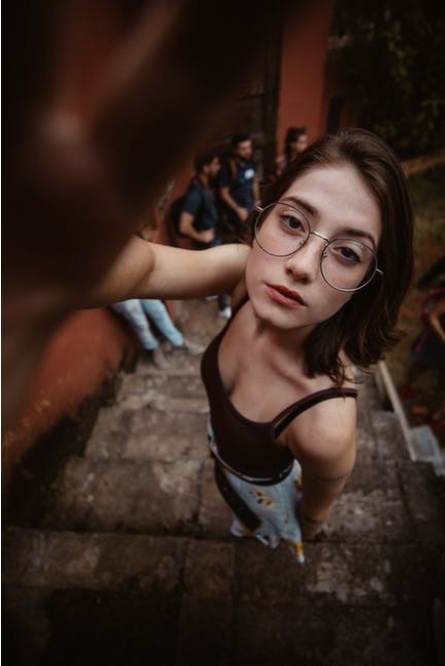face: (245, 166, 380, 330)
